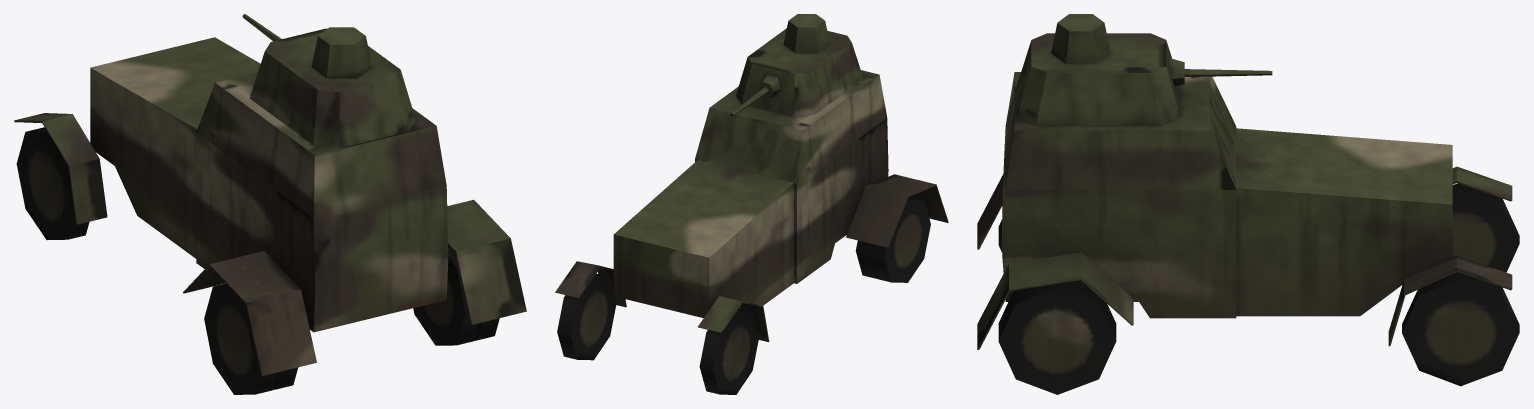
The model's file is WZ34_CKM_LOW.fbx.
The picture shows the model from 3 angles, left to right: view 1: azimuth 30°, elevation 25°; view 2: azimuth 150°, elevation 25°; view 3: azimuth 270°, elevation 25°; orthographic projection. The views are drawn at different scales.
Visible parts, largest first — view 1: Chassis, Tourelle_01, Roue_02, Roue_Gauche_01; view 2: Chassis, Tourelle_01, Roue_Gauche_01, Roue_Droite_01, Roue_02; view 3: Chassis, Tourelle_01, Roue_02, Roue_Droite_01, Roue_Gauche_01, Canon_01.
Part boxes in pixels (left/top/right/bottom): Chassis: left=14, top=37, right=526, bottom=375; Tourelle_01: left=249, top=27, right=415, bottom=147; Roue_02: left=204, top=245, right=499, bottom=394; Roue_Gauche_01: left=16, top=127, right=89, bottom=239; Chassis: left=555, top=70, right=948, bottom=341; Tourelle_01: left=736, top=14, right=863, bottom=116; Roue_Gauche_01: left=699, top=308, right=759, bottom=394; Roue_Droite_01: left=557, top=273, right=616, bottom=360; Roue_02: left=855, top=196, right=930, bottom=282; Chassis: left=977, top=72, right=1512, bottom=349; Tourelle_01: left=1017, top=14, right=1180, bottom=125; Roue_02: left=998, top=219, right=1116, bottom=394; Roue_Droite_01: left=1402, top=272, right=1519, bottom=386; Roue_Gauche_01: left=1452, top=183, right=1519, bottom=273; Canon_01: left=1184, top=69, right=1272, bottom=76.
Size of the model in its own units: 191 by 345 by 221.
1 material, 1 textured.
